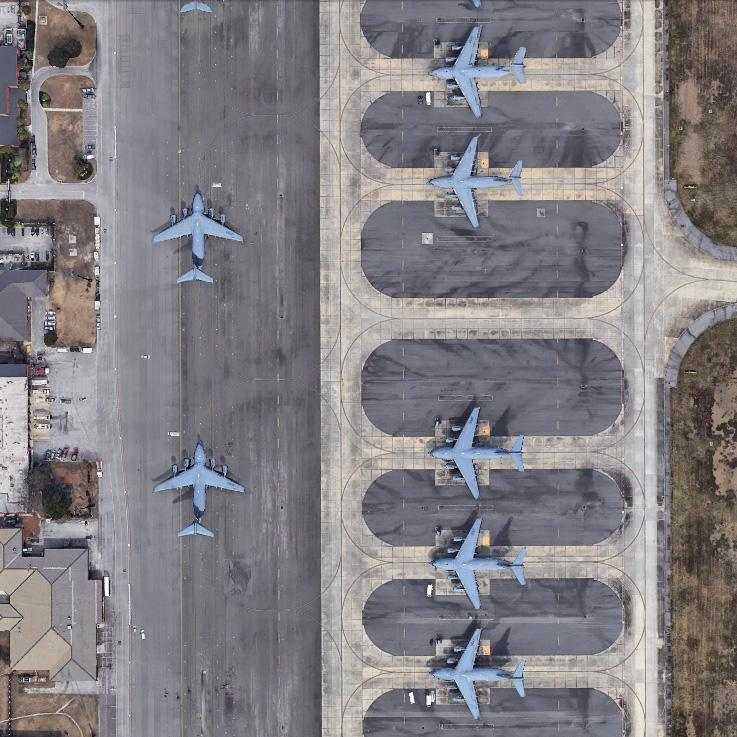A3: (429, 21, 528, 119), (426, 132, 526, 228), (429, 515, 528, 610), (429, 625, 528, 720), (153, 438, 247, 538), (428, 402, 525, 498), (151, 188, 246, 284)
